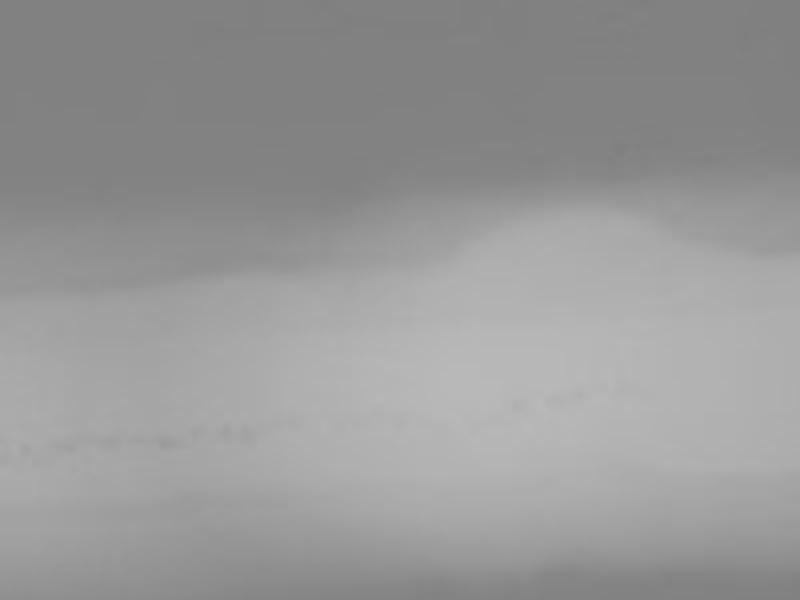defect: (236, 421, 256, 443), (156, 431, 176, 449), (216, 421, 230, 439), (190, 422, 205, 438)
